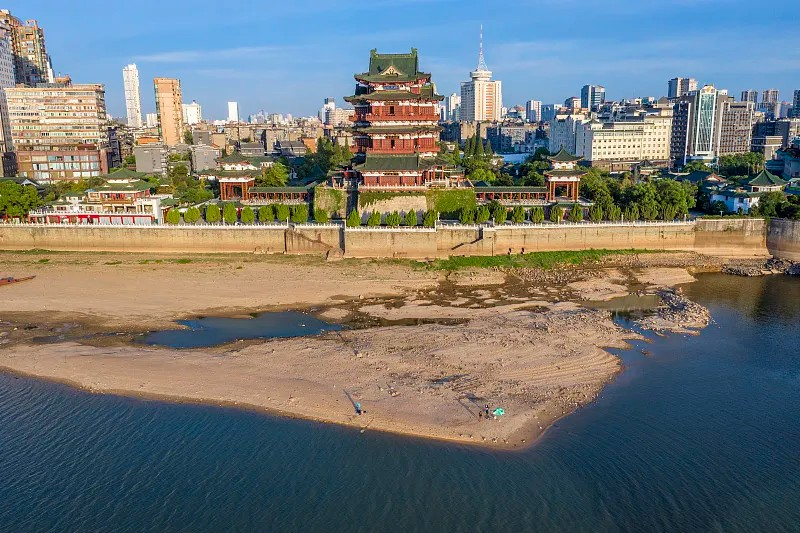Teng: (328, 47, 465, 185)
